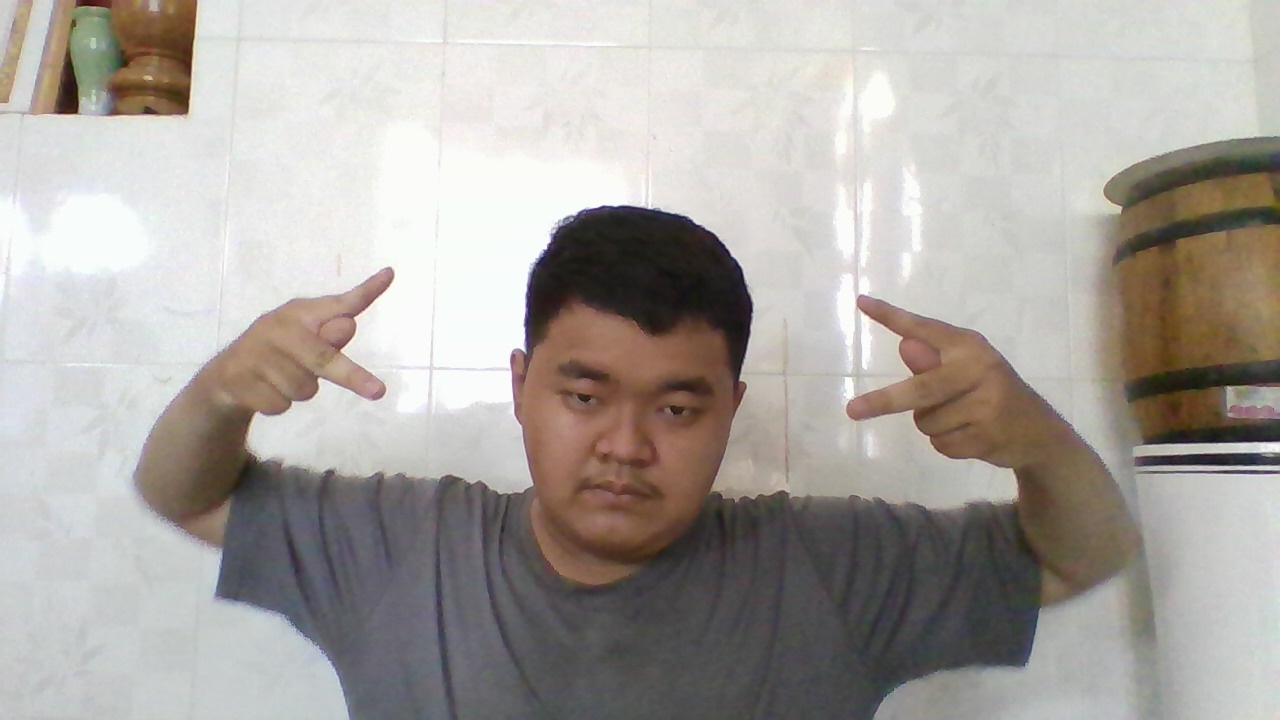K: (832, 285, 1062, 463), (202, 260, 404, 425)
